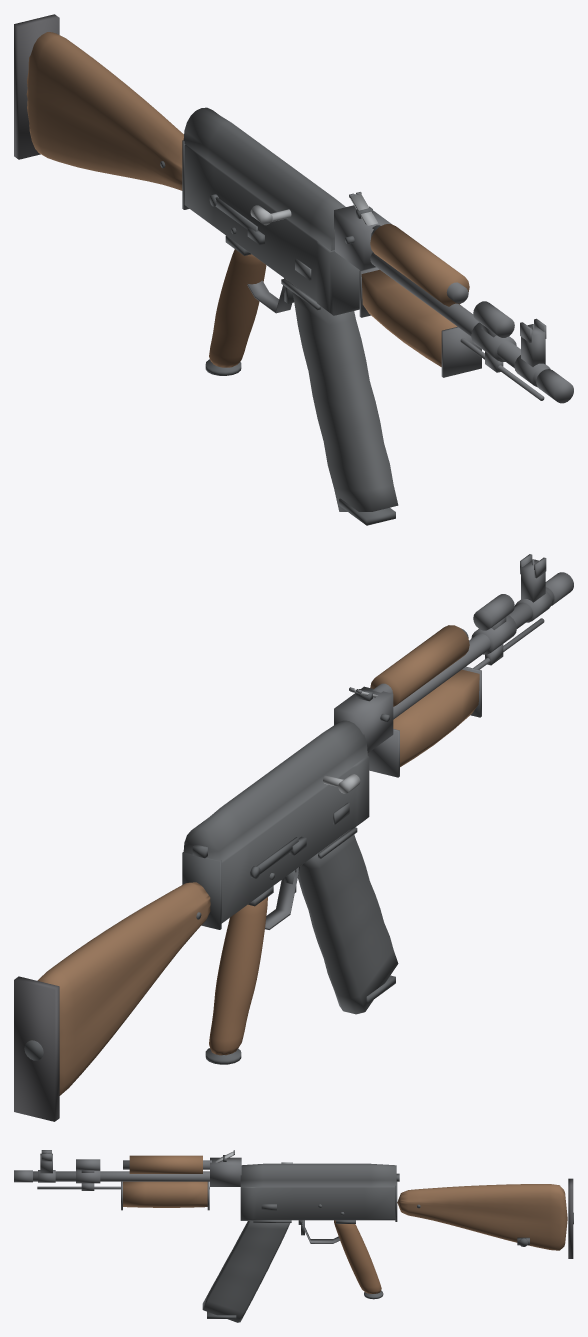
The picture shows the model from 3 angles, top to bottom: view 1: azimuth 30°, elevation 25°; view 2: azimuth 150°, elevation 25°; view 3: azimuth 270°, elevation 25°; orthographic projection. The views are drawn at different scales.
Visible parts, largest first — view 1: body, mag; view 2: body, mag; view 3: body, mag.
Boxes of the visible parts, x1=… form: body: x1=14, y1=14, x2=573, y2=403; mag: x1=291, y1=283, x2=398, y2=525; body: x1=14, y1=554, x2=573, y2=1121; mag: x1=298, y1=831, x2=398, y2=1014; body: x1=14, y1=1150, x2=573, y2=1299; mag: x1=202, y1=1221, x2=290, y2=1322.
Size of the model in its own units: 0.0744 by 0.2925 by 0.8805.
